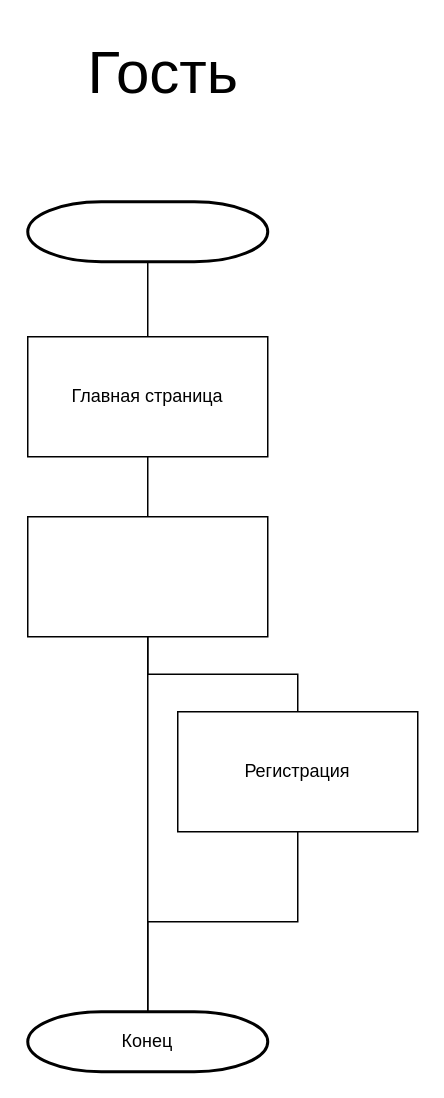
Some shapes in this 444 by 1098 pixel diagram are drawn without their labels. The shapes that lost their labels are listed below. From the top down, each one's centre as x and y in pixels, then its label:
At (147,231): "Начало".
At (147,576): "Вход".
